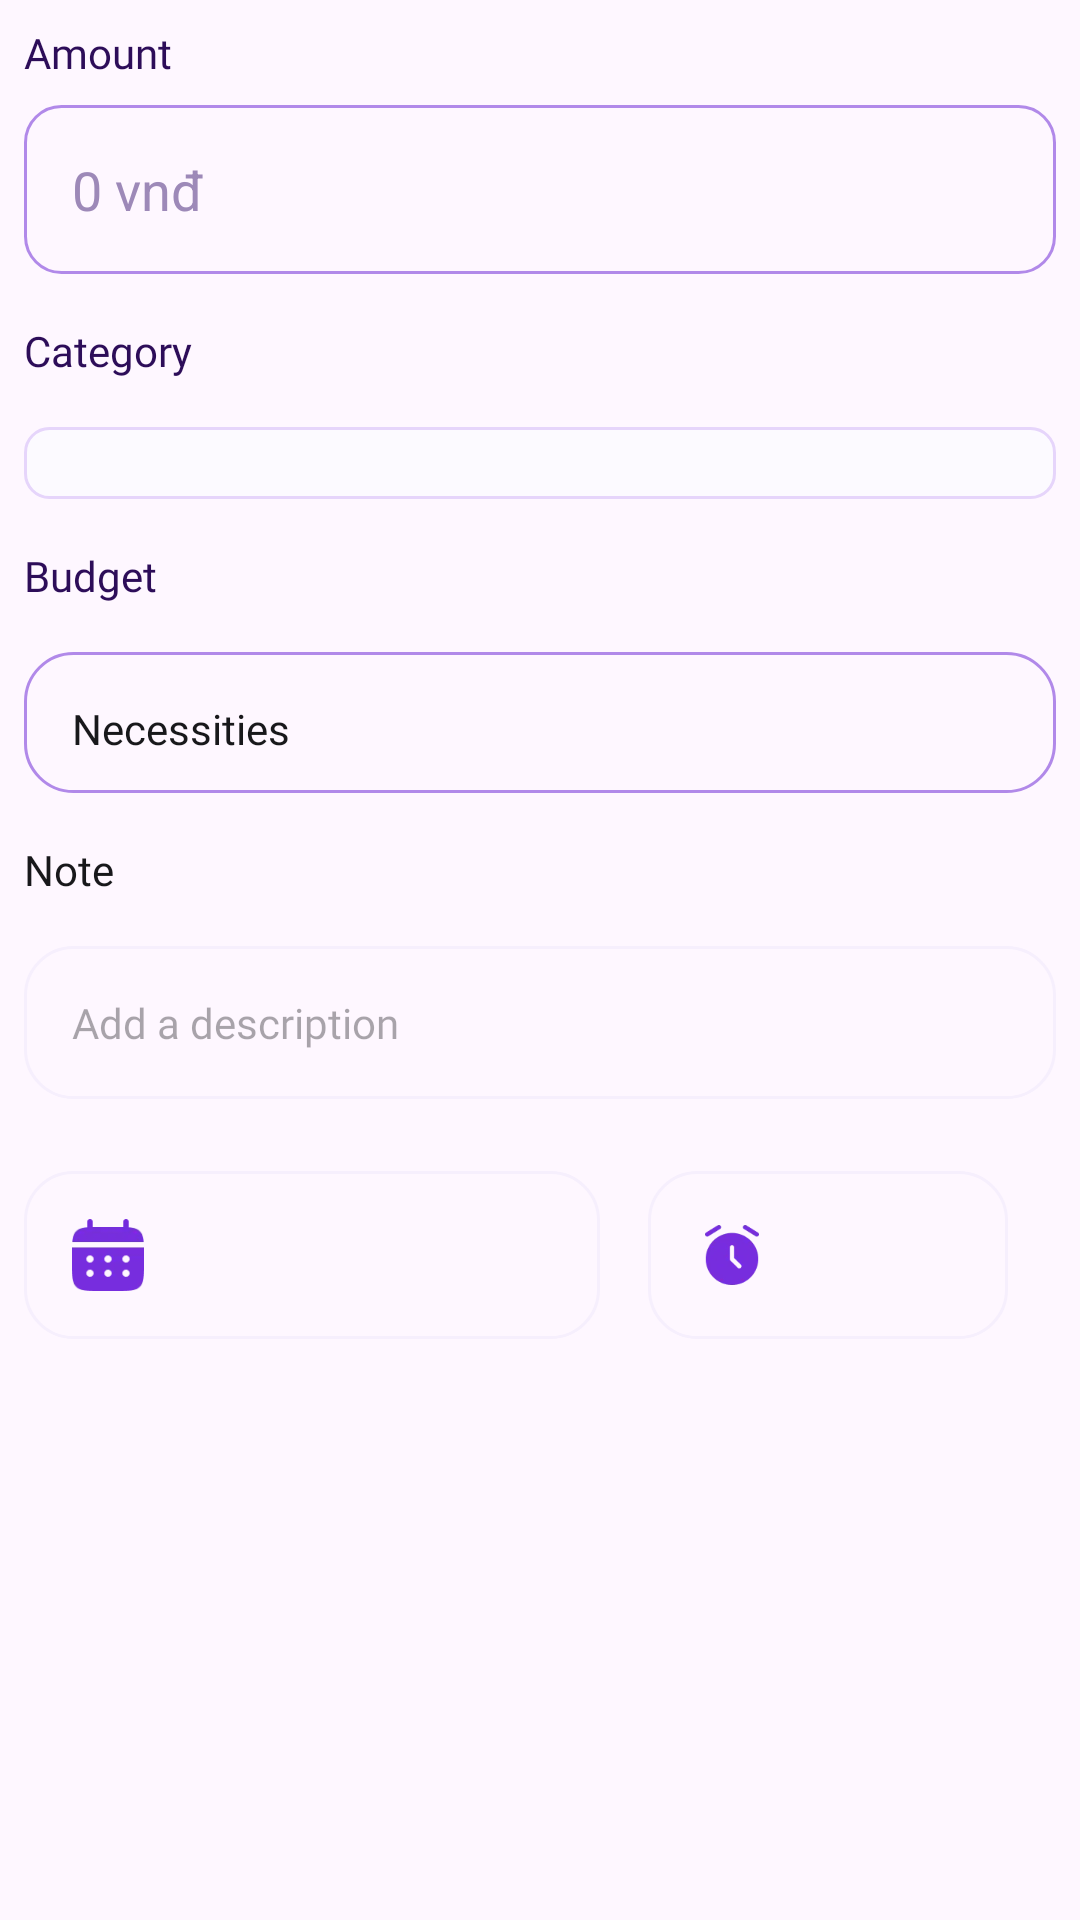

Screen size 1080*1920. Icon name, then its center in pixels as [x,y]:
alarm: [732,1255]
calender: [108,1255]
